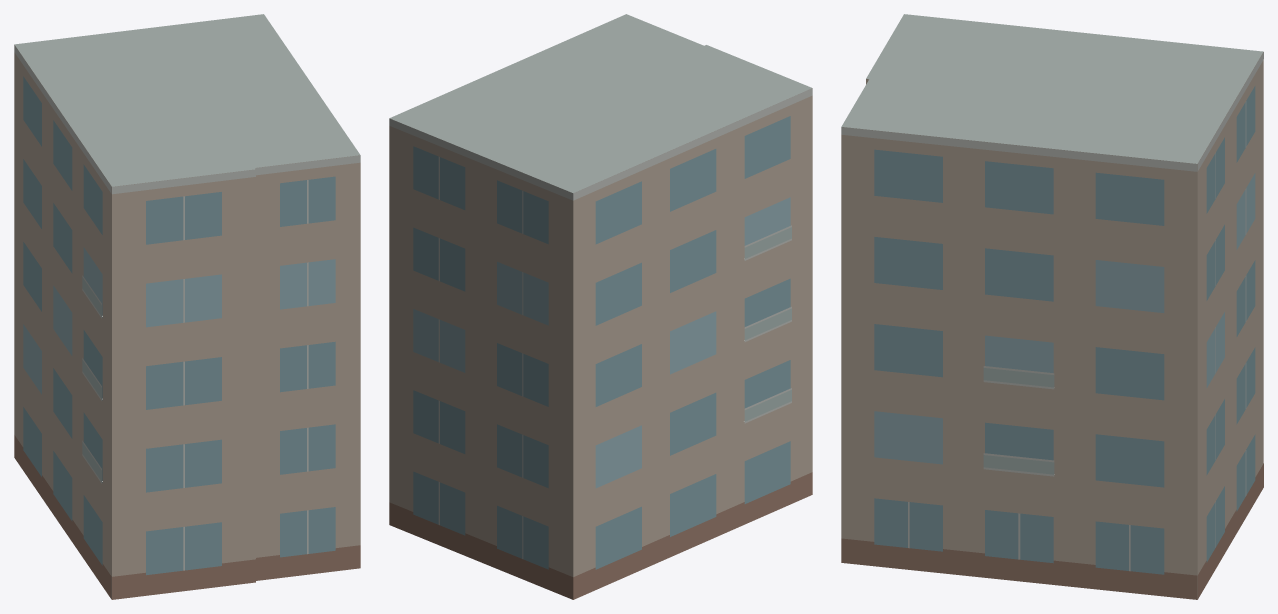
File: survey-upis-32795213.glb
3 renders of one model, left to right at view 1: azimuth 30°, elevation 25°; view 2: azimuth 150°, elevation 25°; view 3: azimuth 270°, elevation 25°, orthographic. The views are drawn at different scales.
Parts seen in each view (by area): view 1: survey-upis-32795213.tmp; view 2: survey-upis-32795213.tmp; view 3: survey-upis-32795213.tmp.
Part boxes in pixels (x1=…): survey-upis-32795213.tmp: x1=14, y1=14, x2=360, y2=599; survey-upis-32795213.tmp: x1=389, y1=14, x2=812, y2=599; survey-upis-32795213.tmp: x1=841, y1=14, x2=1263, y2=599.
Size of the model in its own units: 9.89 by 13.4 by 11.78.
